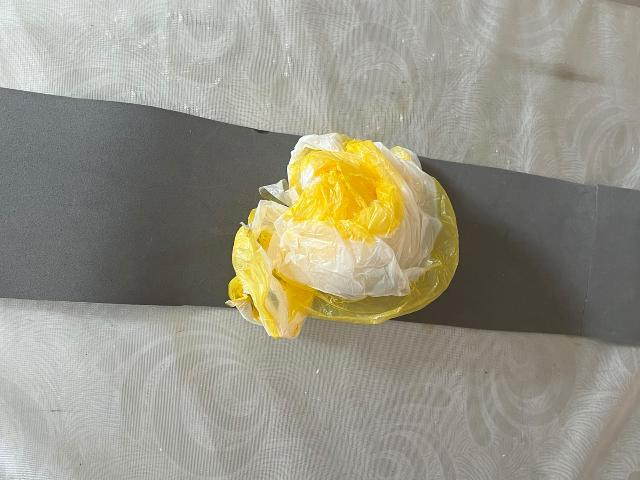LDPE: (211, 112, 476, 355)
